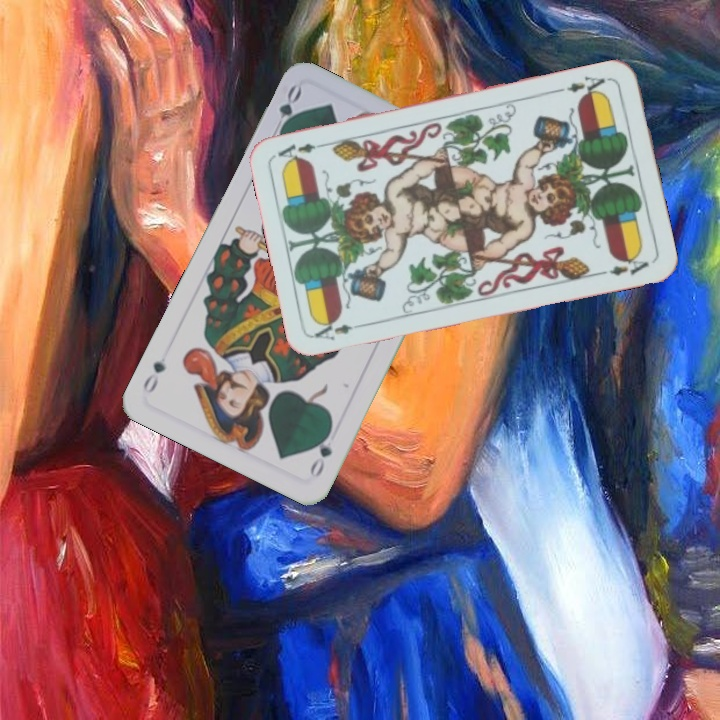EA: (310, 314, 369, 344), (555, 72, 613, 101)
GO: (268, 81, 305, 140), (305, 424, 335, 480)
